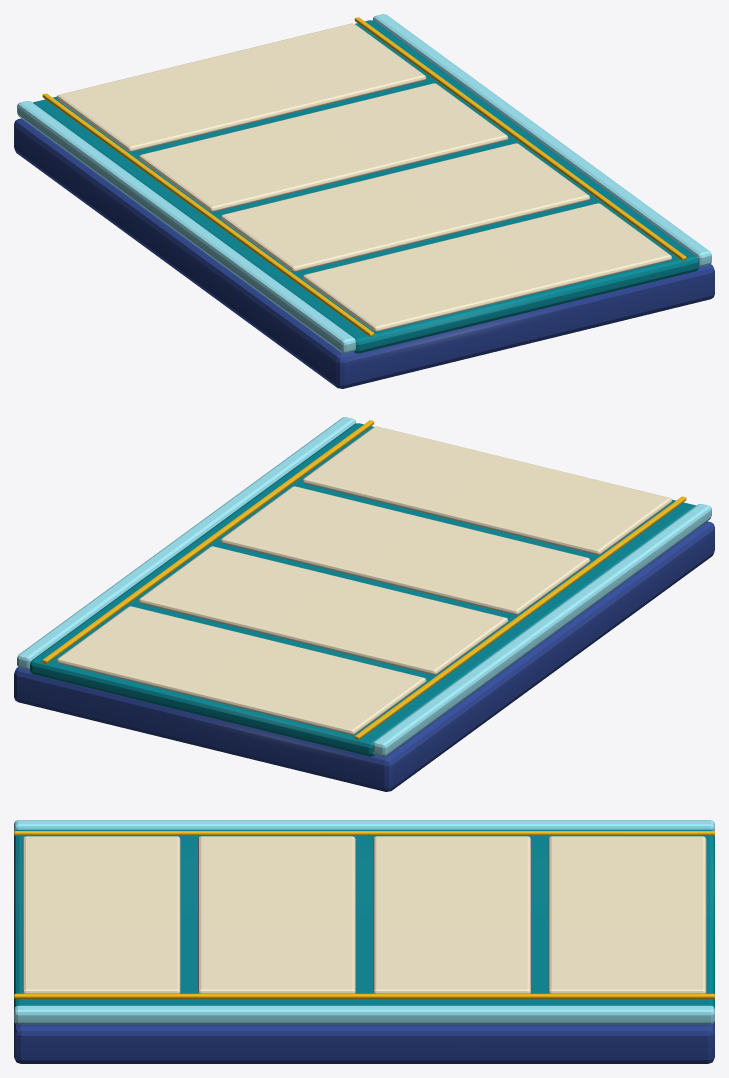
File: PlotPathStraight.fbx
3 views of the same model, one above another, from view 1: azimuth 30°, elevation 25°; view 2: azimuth 150°, elevation 25°; view 3: azimuth 270°, elevation 25° (orthographic). The views are drawn at different scales.
Visible parts, largest first — view 1: PlotPathStraight; view 2: PlotPathStraight; view 3: PlotPathStraight.
Part boxes in pixels (x1,y1,x2,y2): PlotPathStraight: (14, 14, 714, 388); PlotPathStraight: (14, 417, 714, 791); PlotPathStraight: (14, 820, 714, 1063).
Bounding box in the file's own units: 8 × 1.04 × 12.
Materials: 1 (1 with a texture image).
